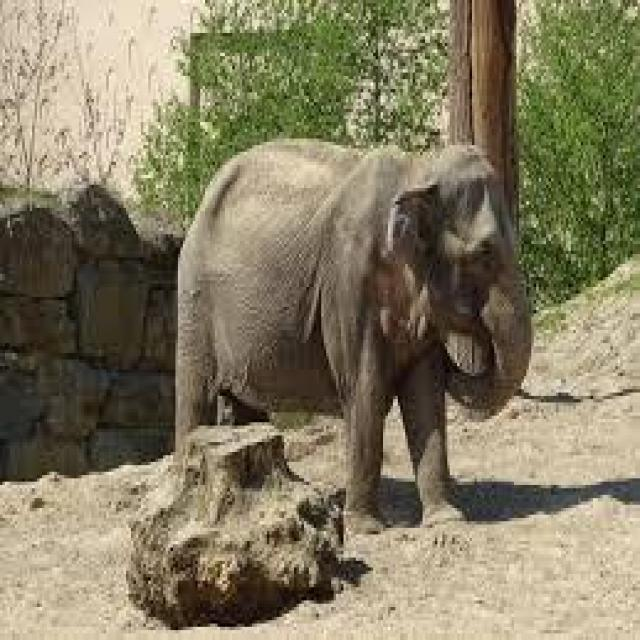Elephant: (166, 132, 531, 518)
